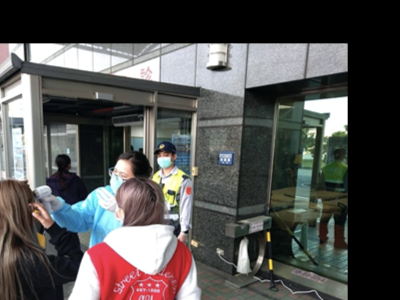with_mask: (108, 167, 131, 195), (156, 151, 173, 169)
